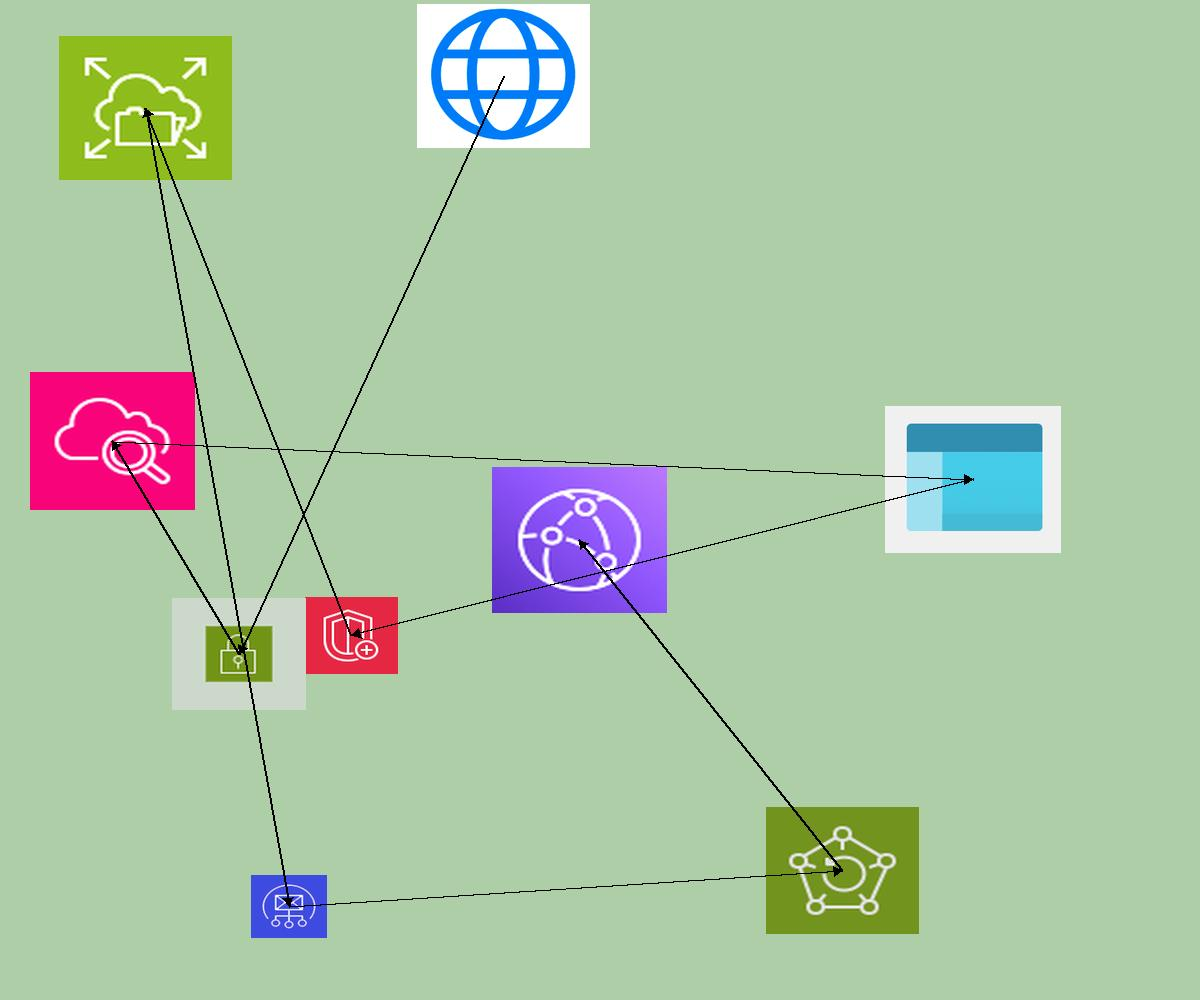AWS-Backup: (766, 807, 919, 934)
AWS-CloudFront: (492, 467, 667, 613)
AWS-CloudWatch: (30, 372, 195, 510)
AWS-EFS: (59, 36, 232, 180)
AWS-Public-subnet: (172, 598, 306, 710)
AWS-Shield: (305, 597, 398, 674)
AWS-Simple-Email-Service: (251, 875, 327, 938)
Azure_http: (417, 4, 590, 148)
Azure_management-portal: (885, 406, 1061, 553)
